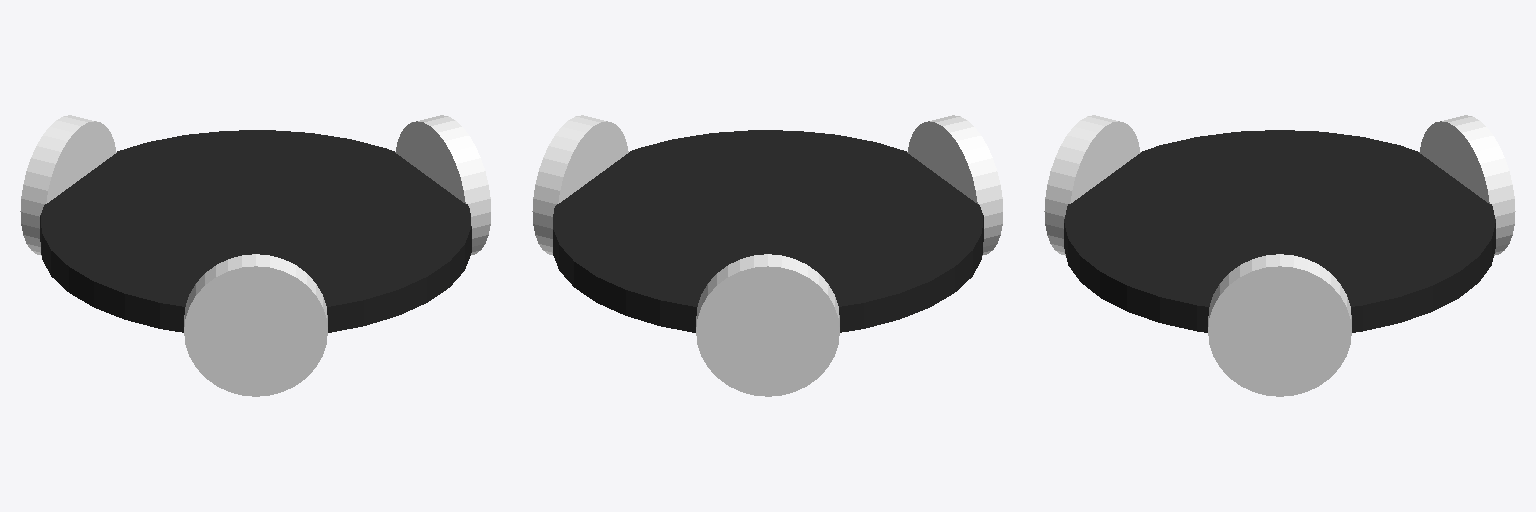
robot.urdf — omnidirectional_robot:
<robot name="omnidirectional_robot" xmlns:xacro="http://www.ros.org/wiki/xacro">
    <!-- ベースリンク -->
    <link name="base_link">
        <visual>
            <geometry>
                <cylinder radius="0.15" length="0.02" />
            </geometry>
            <material name="gray">
                <color rgba="0.2 0.2 0.2 1" />
            </material>
        </visual>
        <collision>
            <geometry>
                <cylinder radius="0.15" length="0.02" />
            </geometry>
        </collision>
        <inertial>
            <mass value="5.0" />
            <inertia ixx="0.1" ixy="0" ixz="0" iyy="0.1" iyz="0" izz="0.2" />
        </inertial>
    </link>

    <!-- wheel -->
    <link name="wheel_1">
        <inertial>
            <mass value="2" />
            <inertia ixx="1e-3" ixy="0.0" ixz="0" iyy="1e-3" iyz="0" izz="1e-3" />
        </inertial>
        <visual>
            <geometry>
                <cylinder radius="0.05" length="0.02" />
            </geometry>
            <material name="whtie">
                <color rgba="1 1 1 1" />
            </material>
        </visual>
        <collision>
            <geometry>
                <cylinder radius="0.05" length="0.02" />
            </geometry>
            <contact_coefficients mu="1" kp="1e+13" kd="1.0" />
        </collision>
    </link>
    <joint name="wheel_1_joint" type="continuous">
        <origin xyz="0.15 0 0.0" rpy="1.57 0.0 1.57" />
        <parent link="base_link" />
        <child link="wheel_1" />
        <axis xyz="0.0 0.0 1.0" />
    </joint>

    <link name="wheel_2">
        <inertial>
            <mass value="2" />
            <inertia ixx="1e-3" ixy="0.0" ixz="0" iyy="1e-3" iyz="0" izz="1e-3" />
        </inertial>
        <visual>
            <geometry>
                <cylinder radius="0.05" length="0.02" />
            </geometry>
            <material name="whtie">
                <color rgba="1 1 1 1" />
            </material>
        </visual>
        <collision>
            <geometry>
                <cylinder radius="0.05" length="0.02" />
            </geometry>
            <contact_coefficients mu="1" kp="1e+13" kd="1.0" />
        </collision>
    </link>
    <joint name="wheel_2_joint" type="continuous">
        <origin xyz="-0.075 0.12990381056 0" rpy="1.57 0.0 0.5235987755983" />
        <parent link="base_link" />
        <child link="wheel_2" />
        <axis xyz="0.0 0.0 1.0" />
    </joint>

    <link name="wheel_3">
        <inertial>
            <mass value="2" />
            <inertia ixx="1e-3" ixy="0.0" ixz="0" iyy="1e-3" iyz="0" izz="1e-3" />
        </inertial>
        <visual>
            <geometry>
                <cylinder radius="0.05" length="0.02" />
            </geometry>
            <material name="whtie">
                <color rgba="1 1 1 1" />
            </material>
        </visual>
        <collision>
            <geometry>
                <cylinder radius="0.05" length="0.02" />
            </geometry>
            <contact_coefficients mu="1" kp="1e+13" kd="1.0" />
        </collision>
    </link>
    <joint name="wheel_3_joint" type="continuous">
        <origin xyz="-0.075 -0.12990381056 0" rpy="1.57 0.0 -0.5235987755983" />
        <parent link="base_link" />
        <child link="wheel_3" />
        <axis xyz="0.0 0.0 1.0" />
    </joint>

    <gazebo>
        <plugin filename="libgazebo_ros2_control.so" name="gazebo_ros2_control">
            <parameters>[local-path]/ros_ws/src/inrof2025_ros/config/jtc.yaml</parameters>
        </plugin>
    </gazebo>

    <ros2_control name="GazeboSystem" type="system">
        <hardware>
        <plugin>gazebo_ros2_control/GazeboSystem</plugin>
        </hardware>

        <joint name="wheel_1_joint">
            <command_interface name="velocity"/>
            <state_interface name="position"/>
            <state_interface name="velocity"/>
        </joint>
        <joint name="wheel_2_joint">
            <command_interface name="velocity"/>
            <state_interface name="position"/>
            <state_interface name="velocity"/>
        </joint>
        <joint name="wheel_3_joint">
            <command_interface name="velocity"/>
            <state_interface name="velocity"/> 
        </joint>
    </ros2_control>

    <!-- <ros2_control name="GazeboSystem" type="system">
        <hardware>gazebo_ros2_control/GazeboSystem</hardware>
        <joint name="wheel_1_joint">
            <command_interface name="velocity"/>
            <state_interface name="position"/>
            <state_interface name="velocity"/>
        </joint>
        <joint name="wheel_2_joint">
            <command_interface name="velocity"/>
            <state_interface name="position"/>
            <state_interface name="velocity"/>
        </joint>
        <joint name="wheel_3_joint">
            <command_interface name="velocity"/>
            <state_interface name="velocity"/>
            <param name="initial_position">0.0</param>   
        </joint>
    </ros2_control> -->

</robot>

--- Render facts (derived) ---
Views: 3 orthographic renders of the robot side by side, from view 1: azimuth 30°, elevation 25°; view 2: azimuth 150°, elevation 25°; view 3: azimuth 270°, elevation 25°.
Robot: omnidirectional_robot — 4 links, 3 joints (3 continuous); root link base_link; default pose: all joints at 0.
Links seen in each view (by area): view 1: base_link, wheel_3, wheel_2, wheel_1; view 2: base_link, wheel_2, wheel_1, wheel_3; view 3: base_link, wheel_1, wheel_2, wheel_3.
Boxes of the visible links, x1,y1,x2,y2 form: base_link: (40,130,471,332); wheel_3: (184,254,327,396); wheel_2: (20,115,116,255); wheel_1: (395,115,490,254); base_link: (553,130,983,332); wheel_2: (696,254,839,396); wheel_1: (532,115,628,254); wheel_3: (907,115,1002,255); base_link: (1064,130,1495,332); wheel_1: (1208,254,1351,396); wheel_2: (1419,115,1515,255); wheel_3: (1044,115,1140,255).
Size in the robot's own frame: 0.3101 by 0.3271 by 0.1 metres.
Geometry: primitives only (box / cylinder / sphere), no mesh files.
